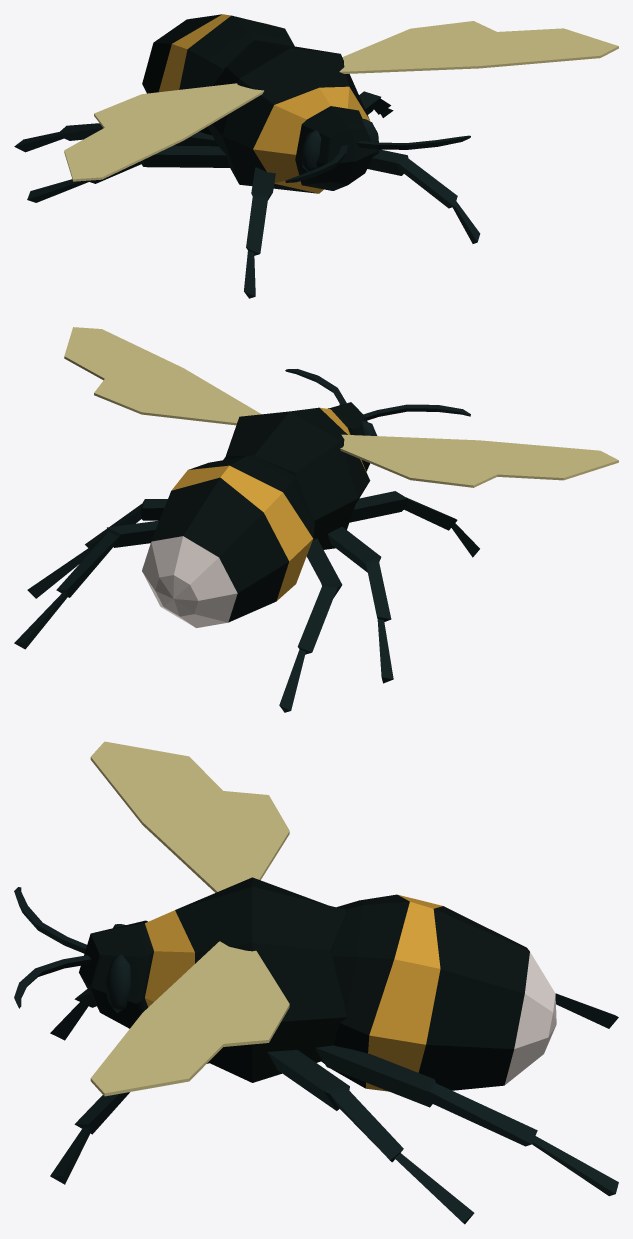
The picture shows the model from 3 angles, top to bottom: view 1: azimuth 30°, elevation 25°; view 2: azimuth 150°, elevation 25°; view 3: azimuth 270°, elevation 25°; orthographic projection. The views are drawn at different scales.
Parts seen in each view (by area): view 1: Geo_Bumblebee; view 2: Geo_Bumblebee; view 3: Geo_Bumblebee.
Part boxes in pixels (x1,y1,x2,y2): Geo_Bumblebee: [14, 14, 618, 298]; Geo_Bumblebee: [14, 327, 618, 712]; Geo_Bumblebee: [14, 741, 618, 1224].
Size of the model in its own units: 121 by 36.34 by 88.18.
Materials: 2 (1 with a texture image).
